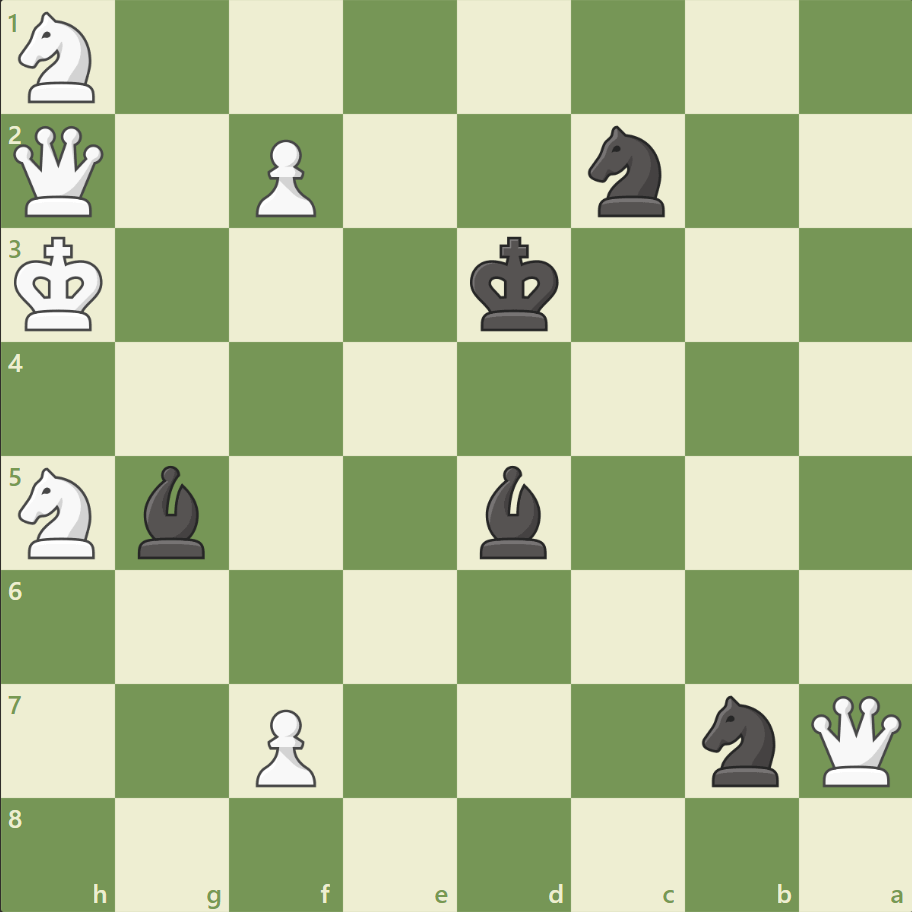K: (11, 231, 111, 339)
N: (11, 461, 108, 564), (11, 7, 108, 110)
P: (247, 700, 322, 791), (247, 132, 322, 223)
Q: (10, 122, 109, 222), (805, 690, 904, 789)
b: (471, 460, 555, 563), (131, 460, 215, 563)
k: (465, 231, 565, 339)
n: (692, 688, 789, 791), (579, 121, 676, 223)
